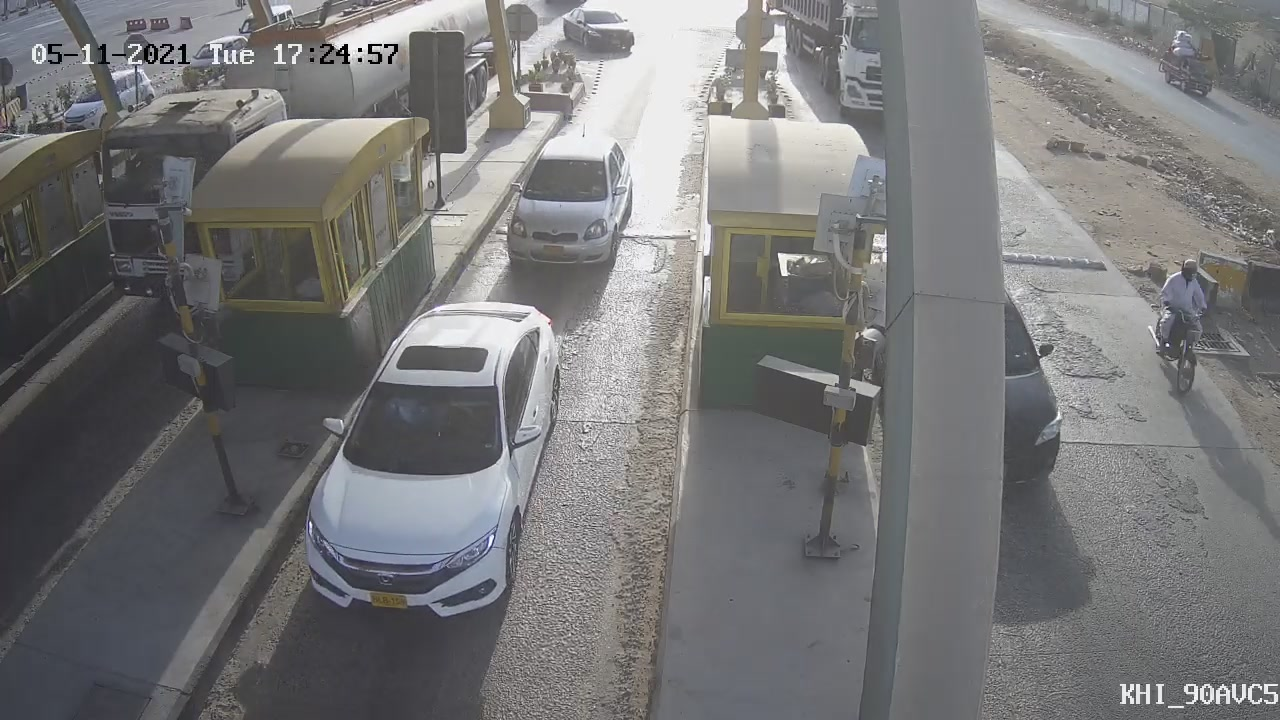F1: (277, 281, 590, 646), (486, 111, 651, 291)
